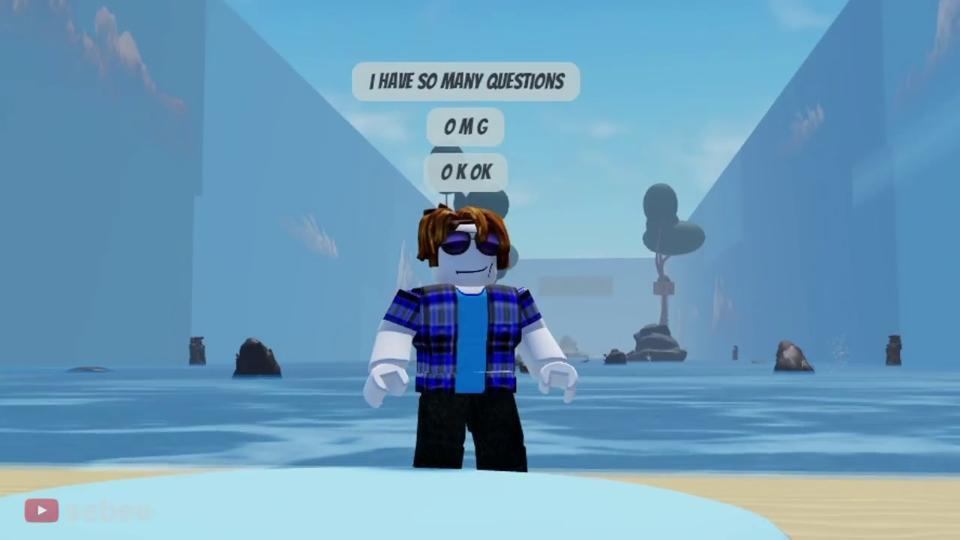Character: (363, 203, 578, 472)
